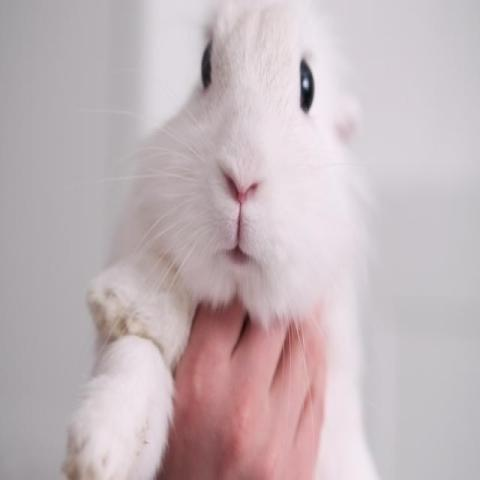small_animal: (60, 0, 386, 479)
